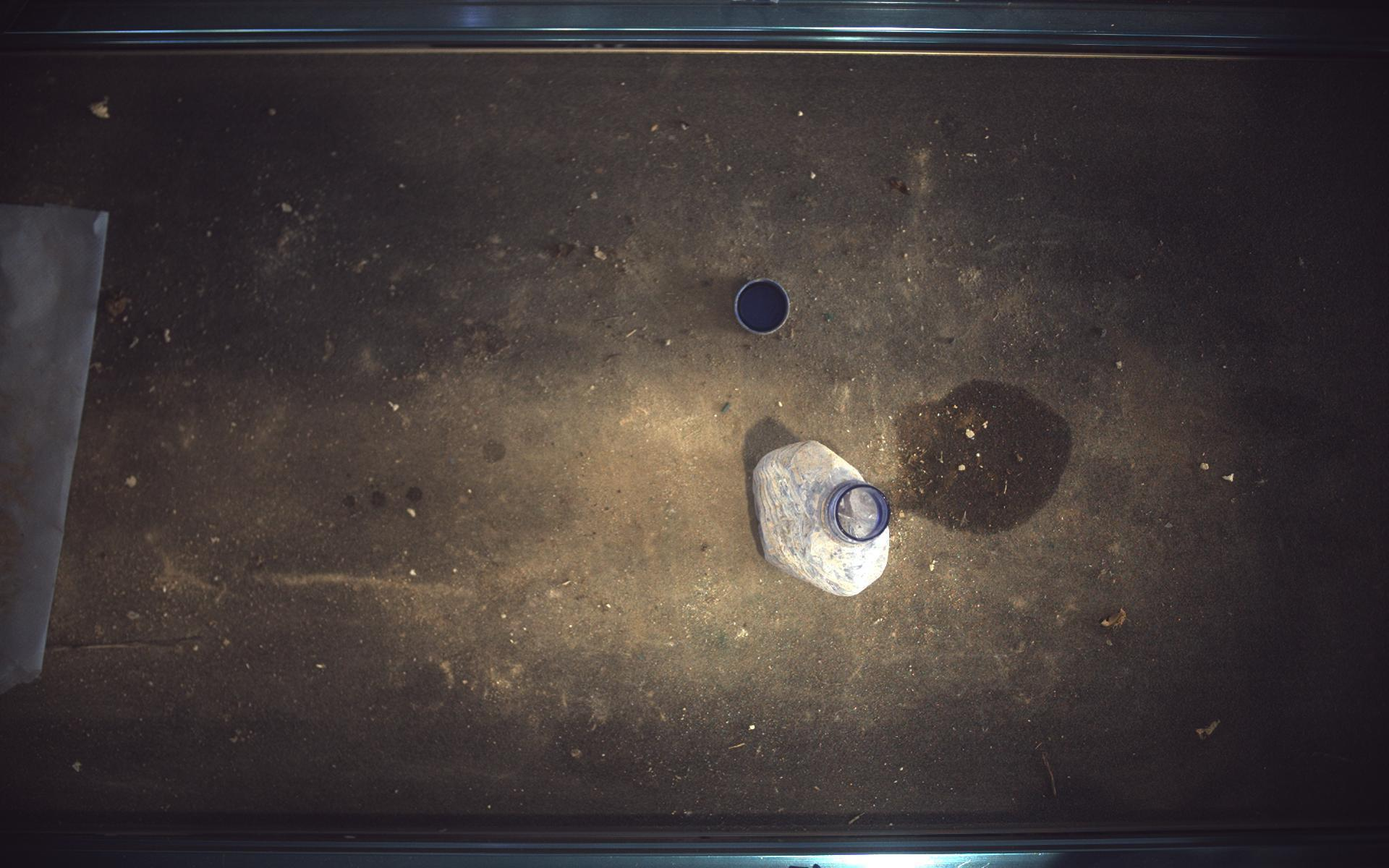general_w: (754, 442, 892, 597), (736, 278, 792, 335)
